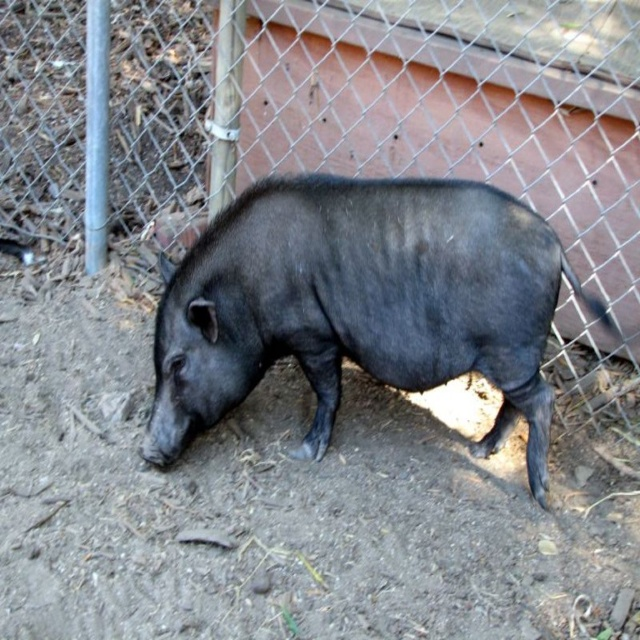Pig: (137, 171, 630, 512)
